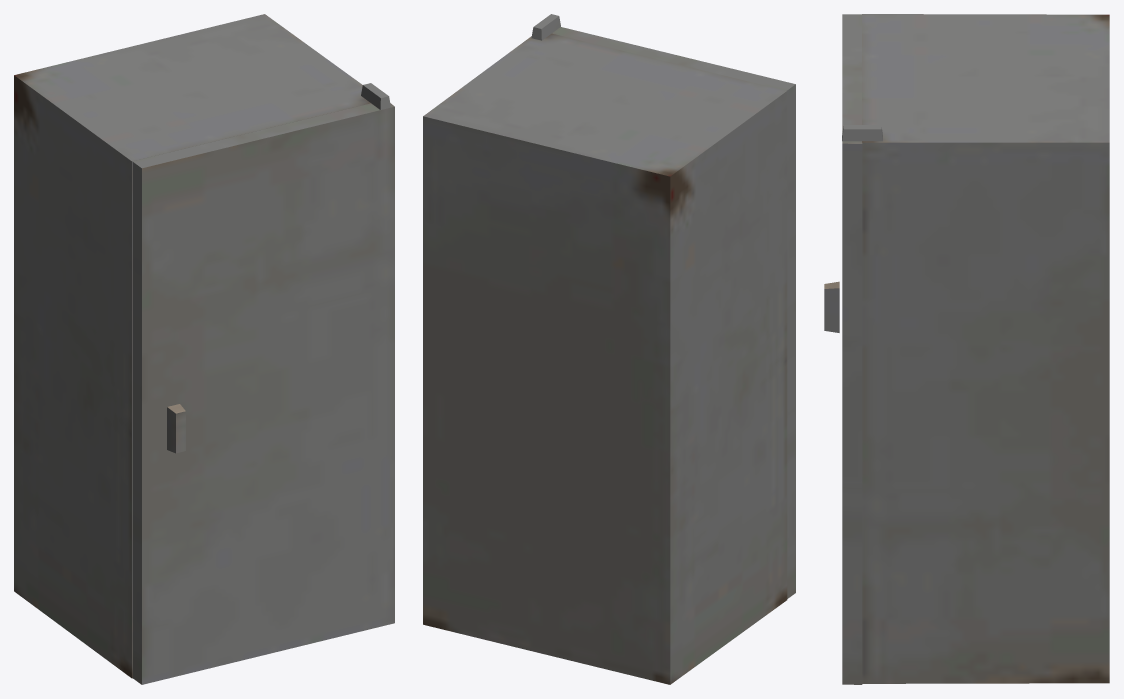
File: holodilnik.fbx
3 views of the same model, side by side, from view 1: azimuth 30°, elevation 25°; view 2: azimuth 150°, elevation 25°; view 3: azimuth 270°, elevation 25° (orthographic). The views are drawn at different scales.
Visible parts, largest first — view 1: Box031, Box028; view 2: Box028, Box031; view 3: Box028, Box031.
Boxes of the visible parts, x1,y1,x2,y2 form: Box031: (132, 103, 394, 684); Box028: (14, 14, 390, 678); Box028: (423, 14, 787, 684); Box031: (552, 27, 795, 598); Box028: (842, 14, 1109, 683); Box031: (824, 14, 862, 684).
Bounding box in the file's own units: 94.14 × 187 × 87.45.
1 material, 1 textured.
